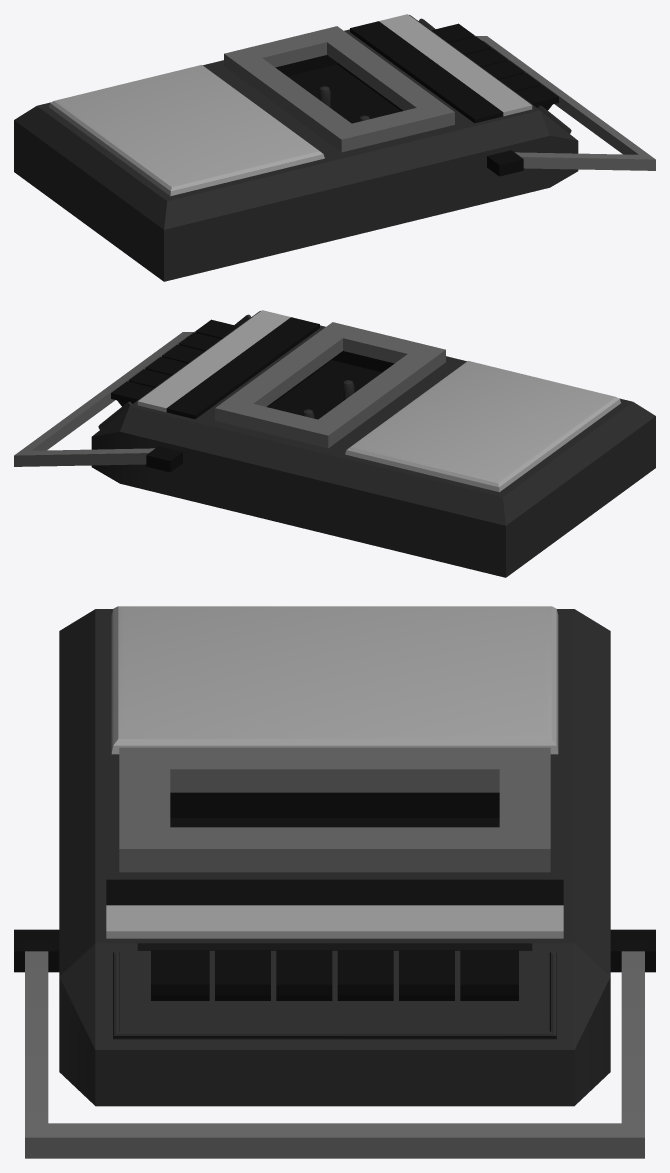
Rendered from TapeRecorder_01.glb.
3 renders of one model, top to bottom at view 1: azimuth 30°, elevation 25°; view 2: azimuth 150°, elevation 25°; view 3: azimuth 270°, elevation 25°, orthographic. The views are drawn at different scales.
Parts seen in each view (by area): view 1: Mesh_TapeRecorder_01; view 2: Mesh_TapeRecorder_01; view 3: Mesh_TapeRecorder_01.
Boxes of the visible parts, x1=… form: Mesh_TapeRecorder_01: x1=14, y1=14, x2=655, y2=281; Mesh_TapeRecorder_01: x1=14, y1=310, x2=655, y2=577; Mesh_TapeRecorder_01: x1=14, y1=606, x2=655, y2=1158.
Bounding box in the file's own units: 0.427 × 0.0702 × 0.268.
1 material, 1 textured.
